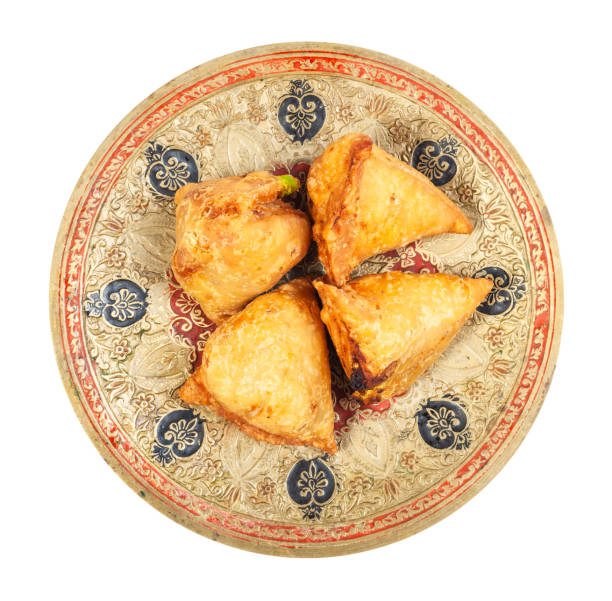samosa: (179, 279, 341, 473), (329, 261, 501, 410), (316, 127, 484, 247), (167, 171, 301, 293)
